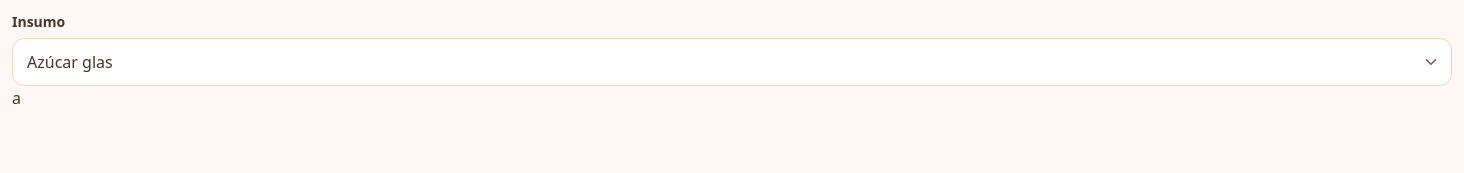
Test: Buscador › Esc cierra y vuelve al valor elegido
This screenshot has width=1464, height=173.
Replace the text in the dropdown labelled "Insumo" with "man" at [732, 62], box [12,38,1452,86]
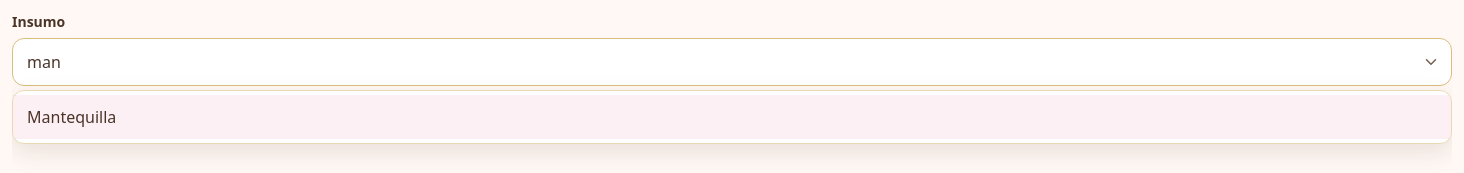
Press Escape
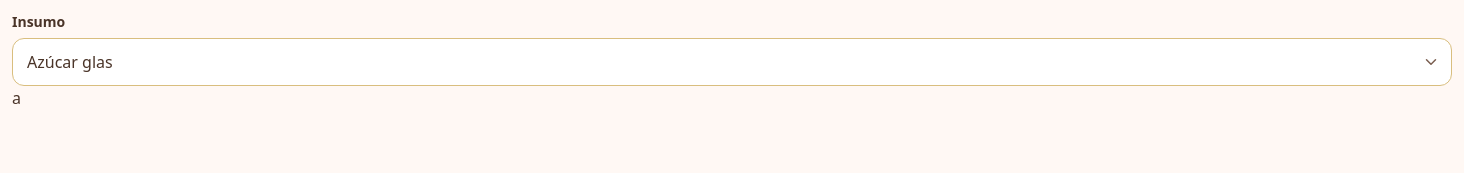
Expected: the text "a" is shown, [12,87,21,109]
Result: the dropdown labelled "Insumo" holds "Azúcar glas" at [12,38,1452,86]
